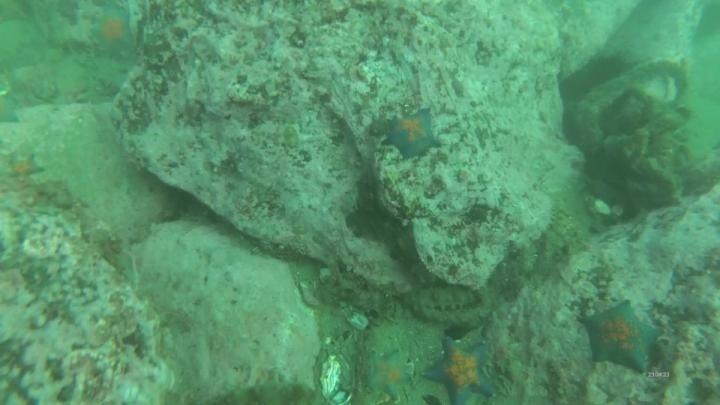echinus: (580, 51, 630, 89)
holothurian: (404, 282, 484, 318)
starfish: (578, 299, 663, 374), (422, 336, 499, 405), (381, 107, 442, 160), (364, 348, 415, 401), (88, 7, 138, 56), (4, 149, 46, 181), (0, 93, 23, 127)
